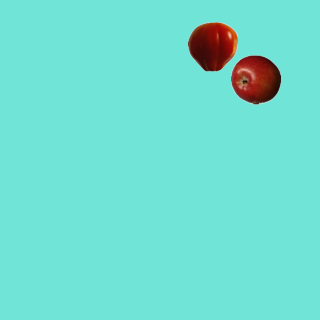Apple Braeburn: (230, 54, 280, 104)
Tomato 1: (187, 21, 237, 71)
